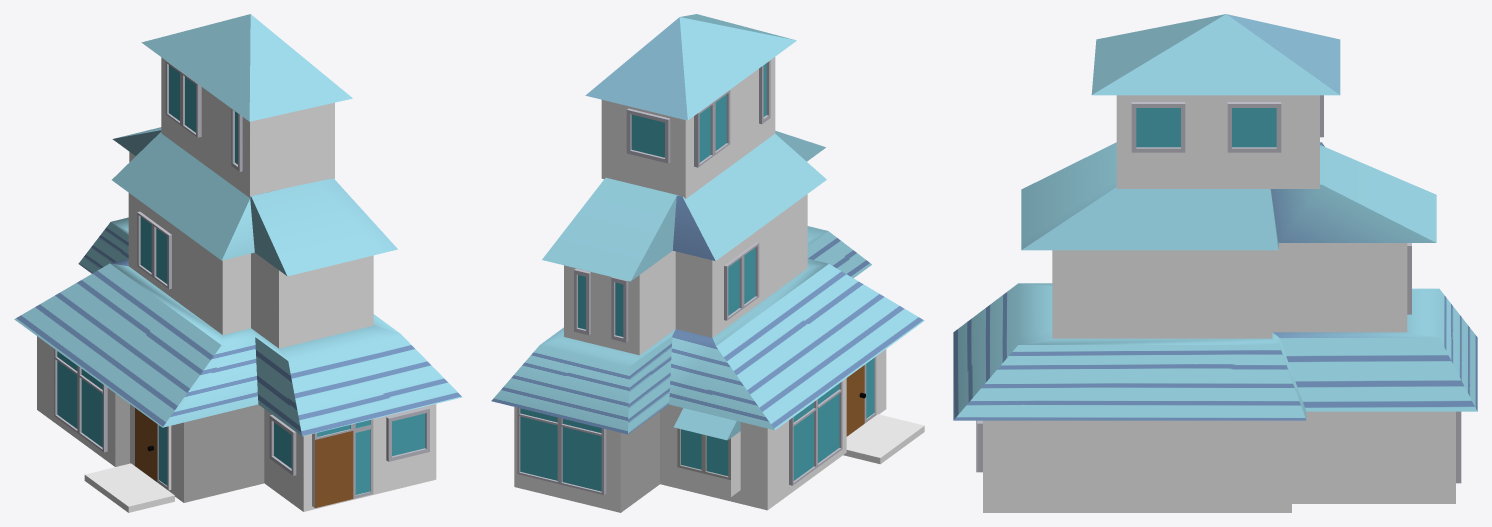
The model's file is Big_House_B.fbx.
The picture shows the model from 3 angles, left to right: view 1: azimuth 30°, elevation 25°; view 2: azimuth 150°, elevation 25°; view 3: azimuth 270°, elevation 25°; orthographic projection. The views are drawn at different scales.
Visible parts, largest first — view 1: House_Big_B_LOD0; view 2: House_Big_B_LOD0; view 3: House_Big_B_LOD0.
Boxes of the visible parts, x1,y1,x2,y2 form: House_Big_B_LOD0: (14,14,462,512); House_Big_B_LOD0: (491,14,924,512); House_Big_B_LOD0: (953,14,1477,512).
Size of what is drawn, in the model's own units: 5.42 by 7.78 by 8.
